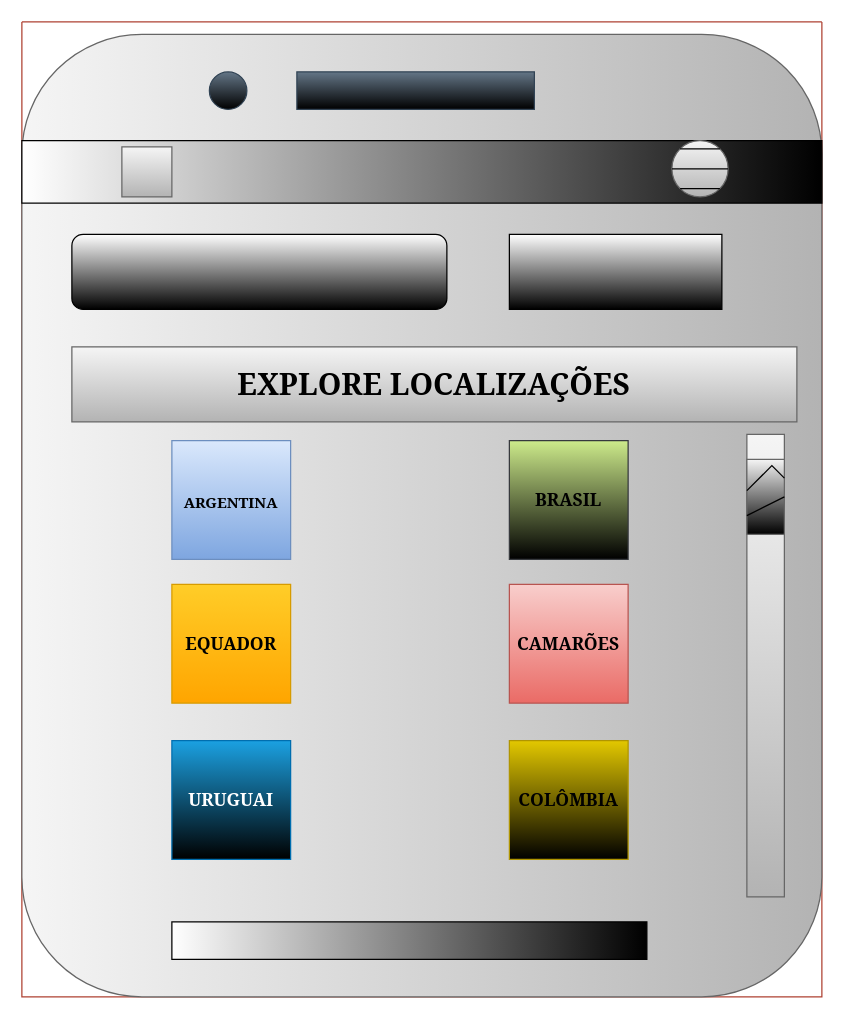
This 844x1019 diagram has some shape labels left out. The shapes that lost their labels are listed below. From the top down, each one's box as (x1, y1, x2, y2) in pixels, then its label:
(21, 139, 822, 203): LOGO
(71, 233, 447, 309): ÁREA DE PESQUISA
(508, 233, 722, 309): LOGIN
